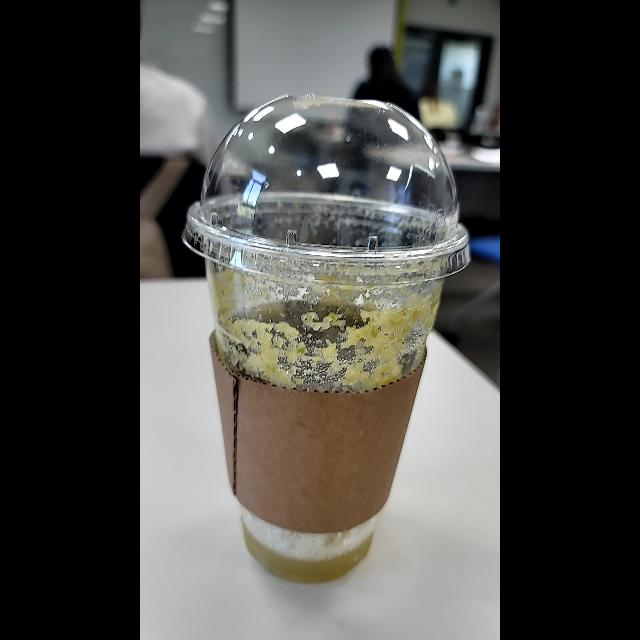plastic_cup: (170, 78, 478, 592)
plastic_cup_lid: (182, 90, 473, 284)
